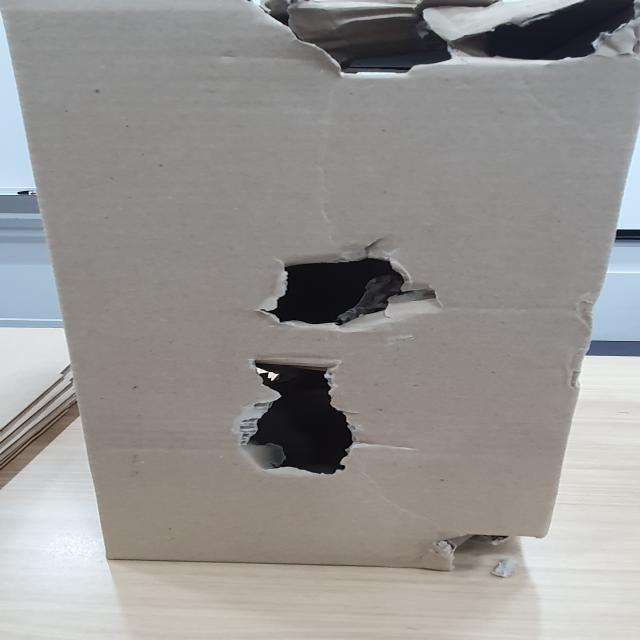hole: (236, 0, 640, 85), (249, 249, 460, 341), (234, 350, 364, 484), (408, 525, 548, 573)
